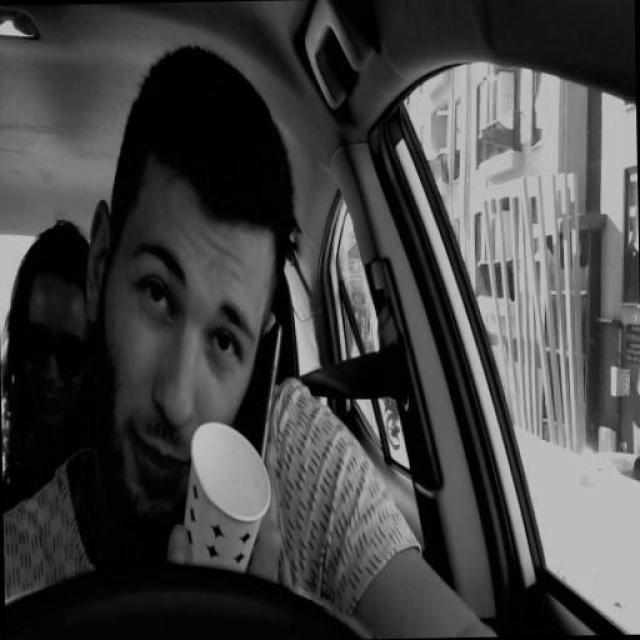Drinking: (182, 426, 272, 570)
